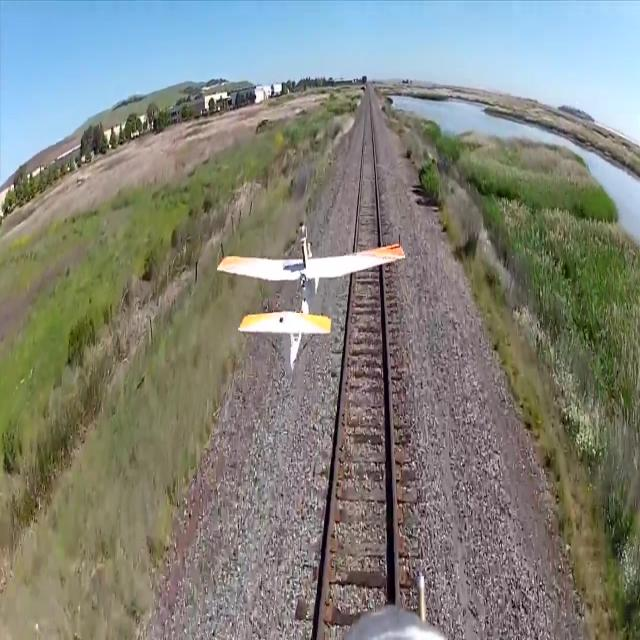iha: (217, 217, 405, 377)
